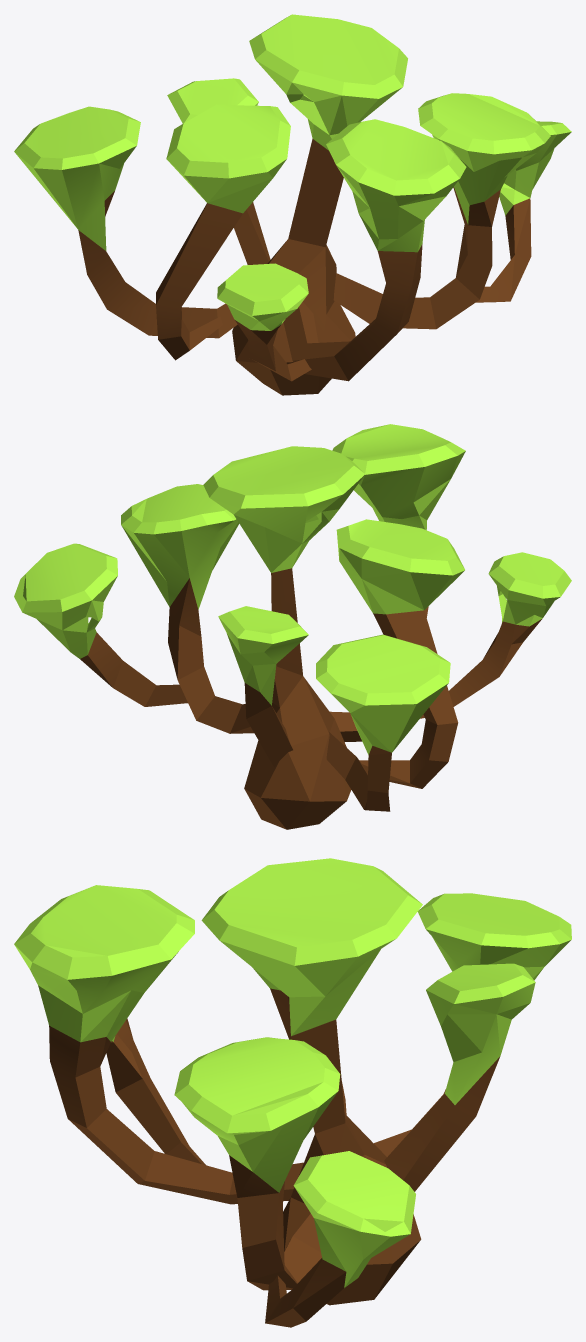
The model's file is MF_Weed_1.FBX.
3 renders of one model, top to bottom at view 1: azimuth 30°, elevation 25°; view 2: azimuth 150°, elevation 25°; view 3: azimuth 270°, elevation 25°, orthographic. The views are drawn at different scales.
Visible parts, largest first — view 1: Weed_1; view 2: Weed_1; view 3: Weed_1.
Part boxes in pixels (x1,y1,x2,y2): Weed_1: (14,14,571,395); Weed_1: (14,424,571,829); Weed_1: (14,858,571,1327).
Bounding box in the file's own units: 1.85 × 1.56 × 1.26.
